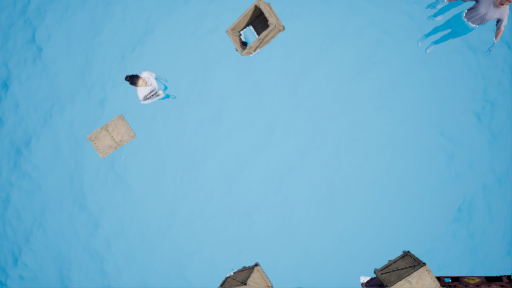person: (414, 1, 511, 69), (126, 72, 177, 107)
